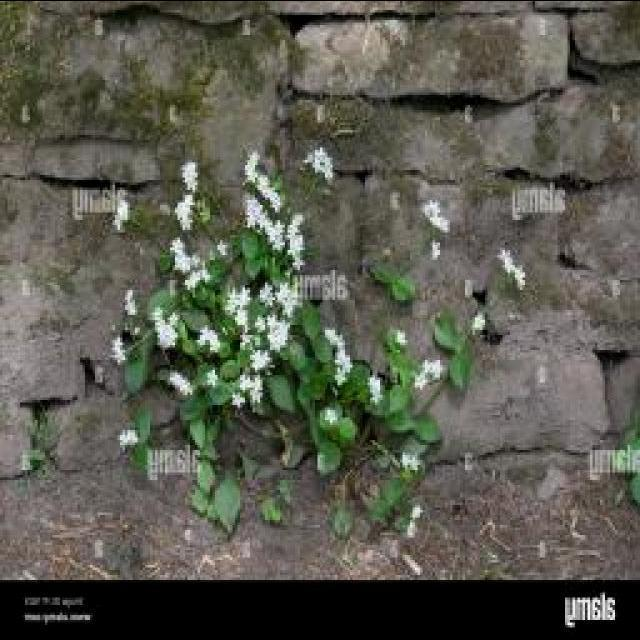crack: (5, 7, 290, 186), (0, 168, 127, 294), (350, 107, 509, 186), (286, 83, 579, 118), (551, 183, 640, 292), (71, 1, 287, 29), (570, 5, 640, 67), (273, 2, 439, 22)
dampens: (0, 183, 153, 482)
vegetation: (108, 146, 475, 539), (133, 149, 327, 302), (474, 77, 640, 184), (285, 15, 424, 99), (0, 3, 48, 94), (418, 196, 455, 268)
